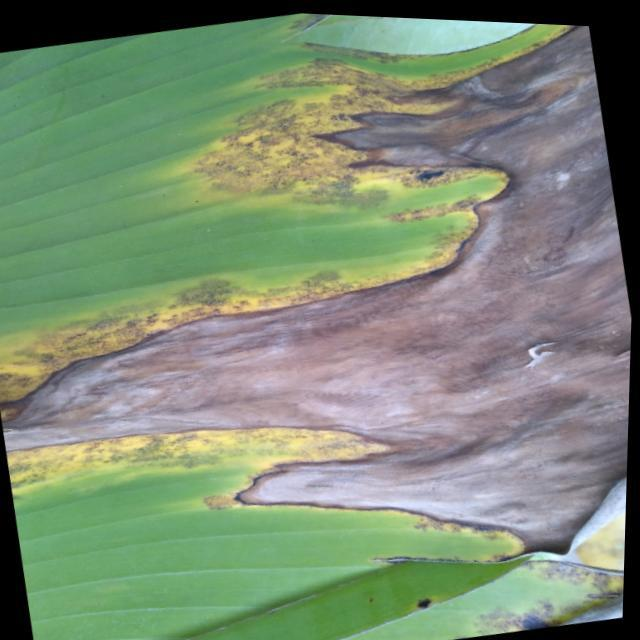Early_rust: (0, 3, 640, 599)
